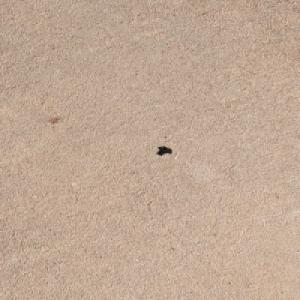BoltWasher: (155, 145, 168, 154)
